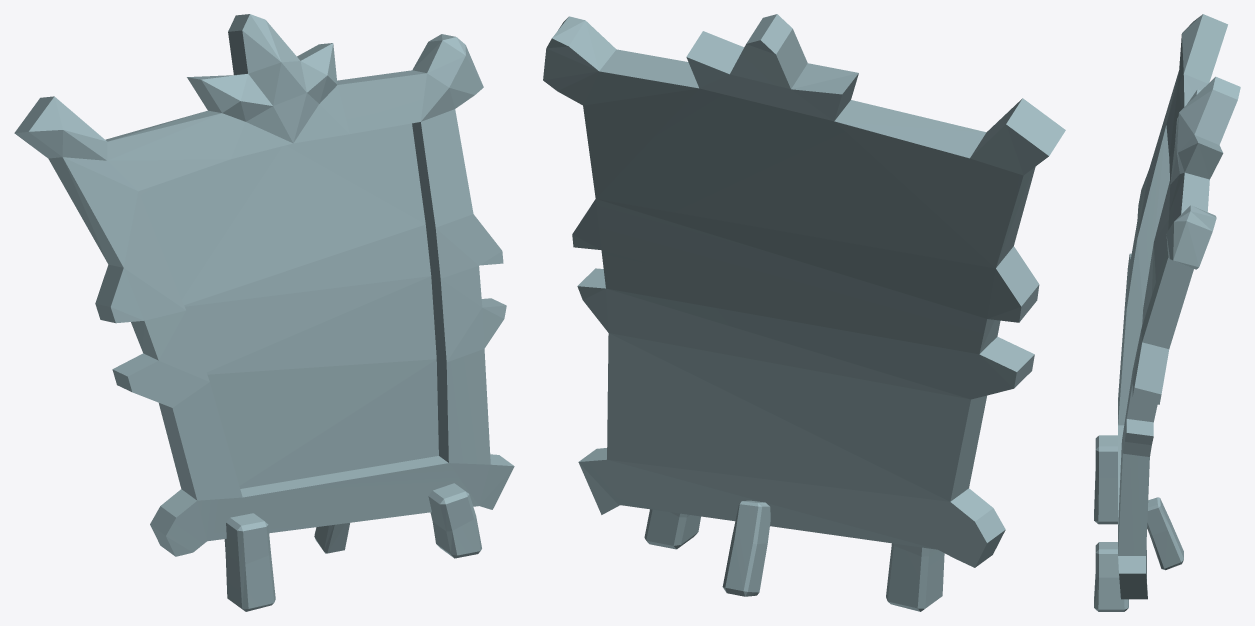
Rendered from Frame02.fbx.
3 renders of one model, left to right at view 1: azimuth 30°, elevation 25°; view 2: azimuth 150°, elevation 25°; view 3: azimuth 270°, elevation 25°, orthographic. The views are drawn at different scales.
Parts seen in each view (by area): view 1: Cube.024_0; view 2: Cube.024_0; view 3: Cube.024_0.
Part boxes in pixels (x1,y1,x2,y2): Cube.024_0: [14, 14, 514, 611]; Cube.024_0: [543, 14, 1065, 611]; Cube.024_0: [1094, 14, 1240, 611].
Size of the model in its own units: 24.2 by 27.72 by 7.88.
